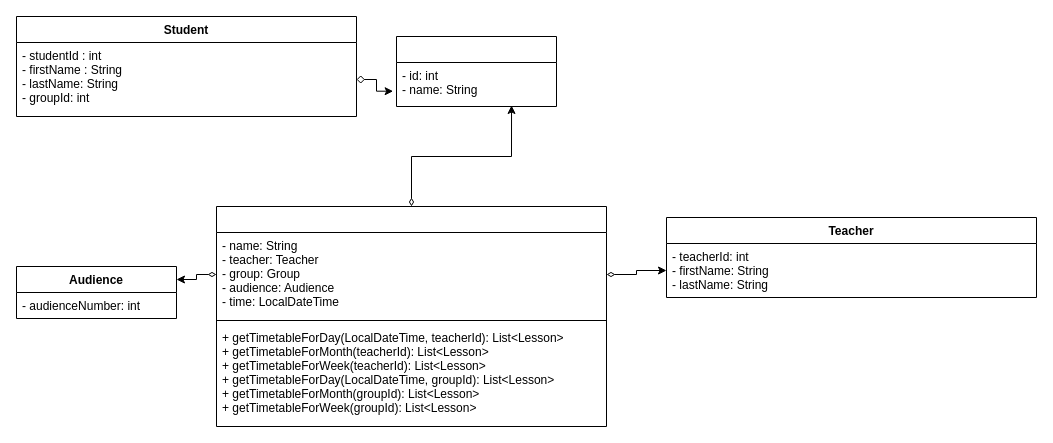
The diagram is 1053 pixels wide and 443 high, and some of its shapes have lost their labels. The shapes that lost their labels are listed below. From the top down, each one's box as (x1, y1, x2, y2) in pixels, then its label:
(396, 36, 556, 106): Group
(216, 206, 606, 426): Lesson
